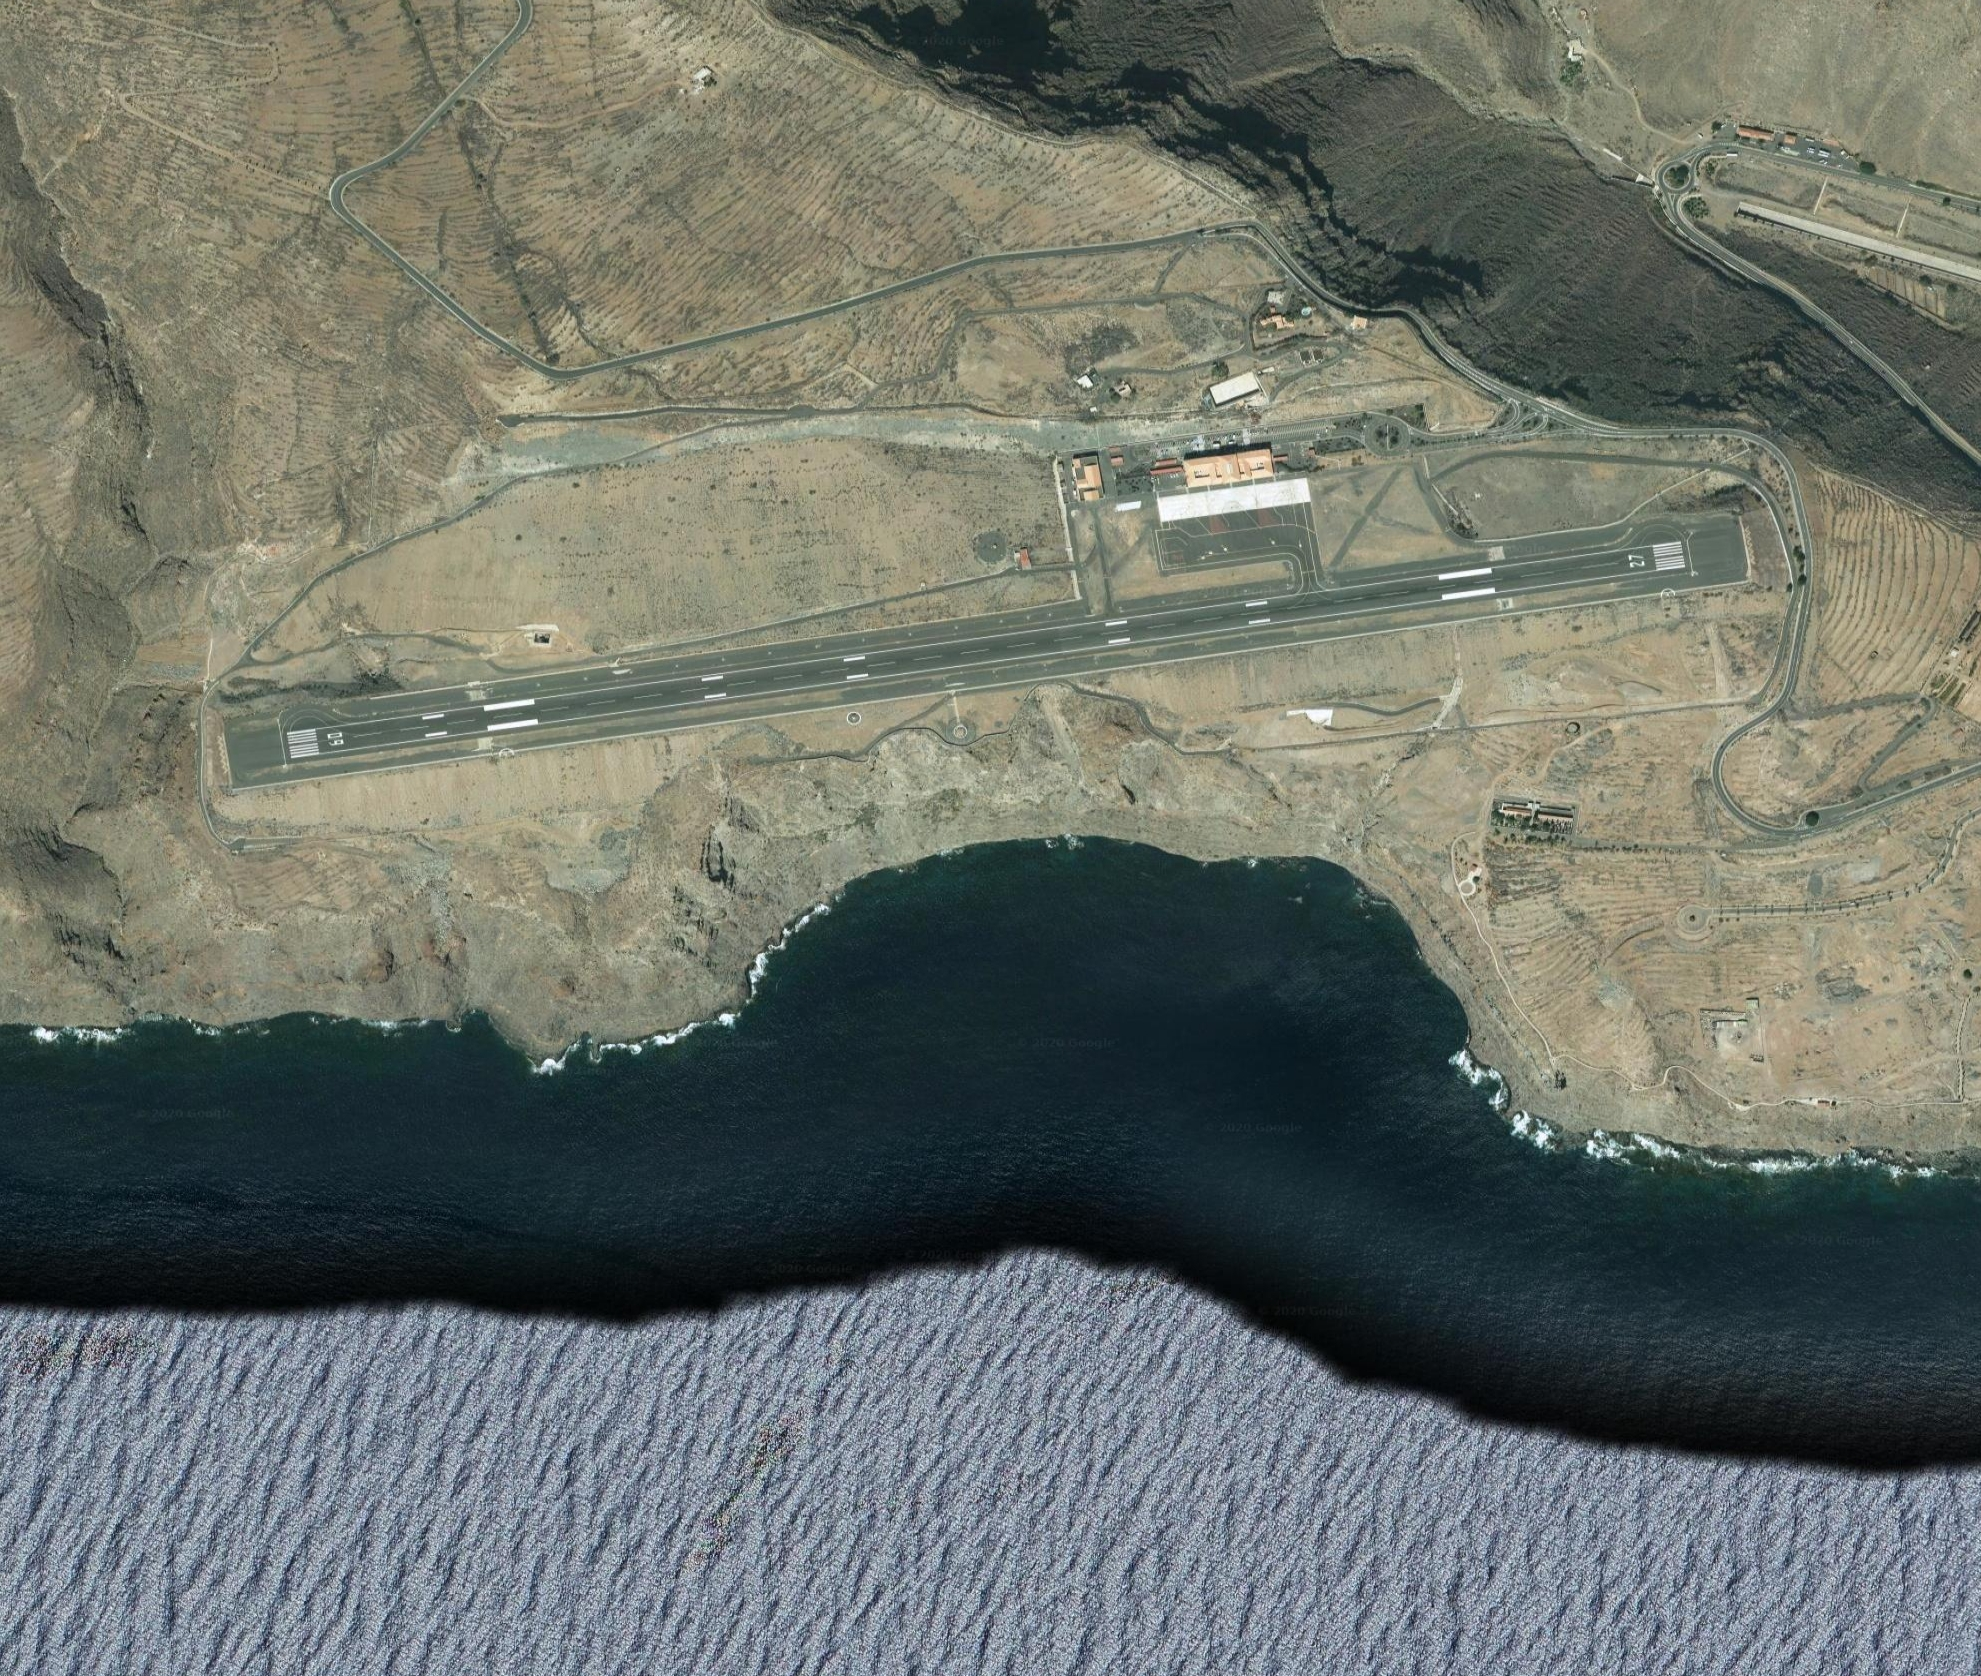airport: (218, 449, 1768, 800)
motorway: (409, 268, 607, 389), (1693, 229, 1860, 352), (1270, 231, 1434, 348), (603, 296, 811, 387), (809, 241, 1020, 323), (1024, 203, 1271, 269), (317, 126, 432, 266), (424, 2, 538, 140), (1851, 354, 1981, 472), (1788, 762, 1981, 831)
